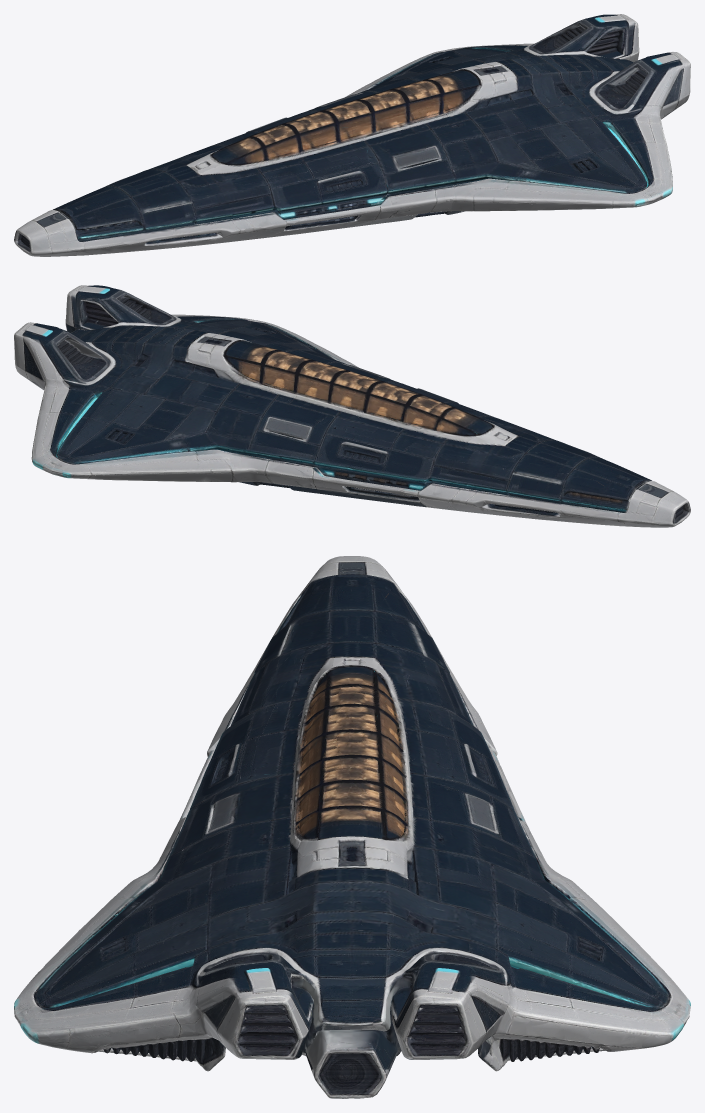
The model's file is kestrel-meshy-v7.glb.
The picture shows the model from 3 angles, top to bottom: view 1: azimuth 30°, elevation 25°; view 2: azimuth 150°, elevation 25°; view 3: azimuth 270°, elevation 25°; orthographic projection. The views are drawn at different scales.
Visible parts, largest first — view 1: Mesh_0; view 2: Mesh_0; view 3: Mesh_0.
Boxes of the visible parts, x1,y1,x2,y2 form: Mesh_0: [14, 14, 690, 256]; Mesh_0: [14, 285, 690, 527]; Mesh_0: [14, 556, 690, 1098].
Size of the model in its own units: 1.9 by 0.3066 by 1.06.
1 material, 1 textured.
